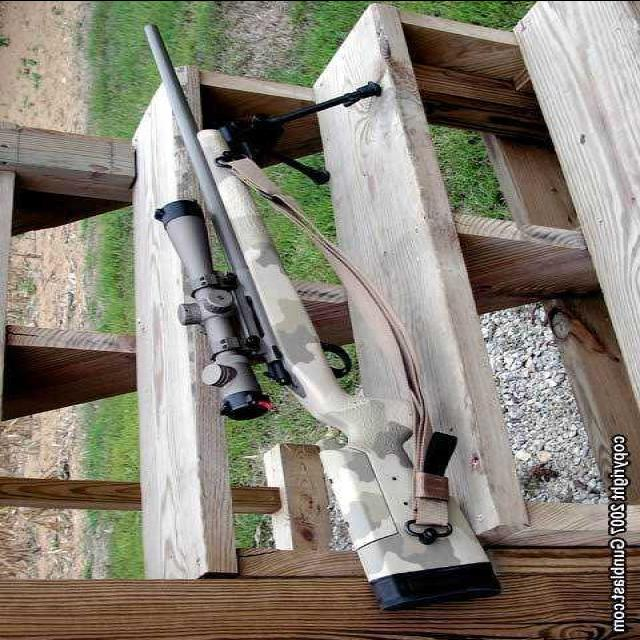heavyweapon: (120, 20, 504, 613)
